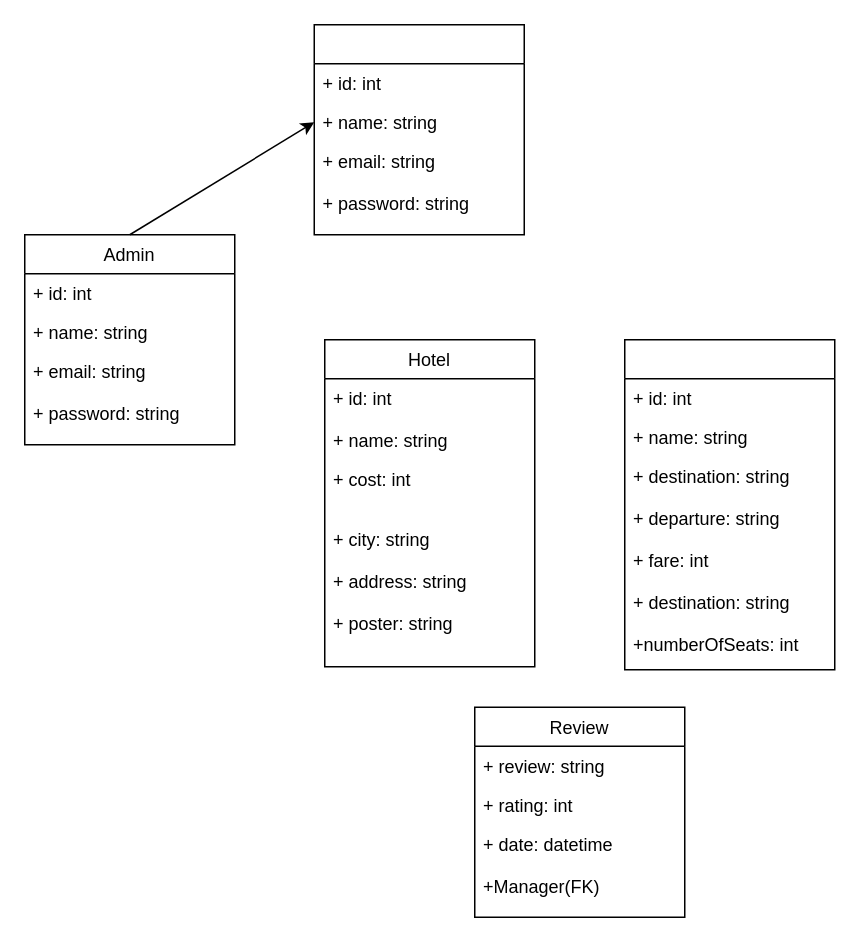
The diagram is 860 pixels wide and 942 high, and some of its shapes have lost their labels. Here are the shapes that lost their labels. From the top down, the box of each, then its label:
(313, 23, 524, 235): User
(623, 338, 835, 670): Flight
